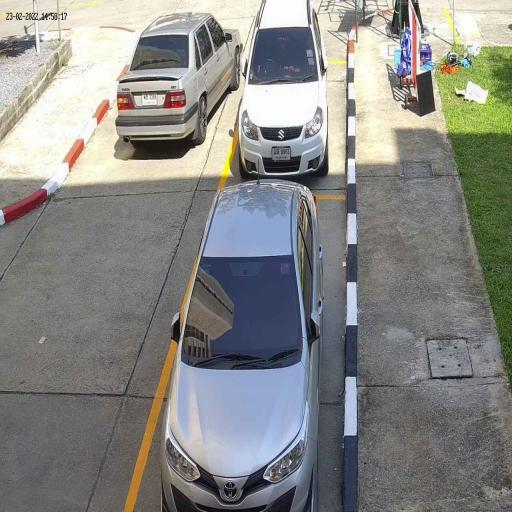car: (158, 180, 326, 512), (115, 10, 242, 147), (237, 0, 331, 182)
